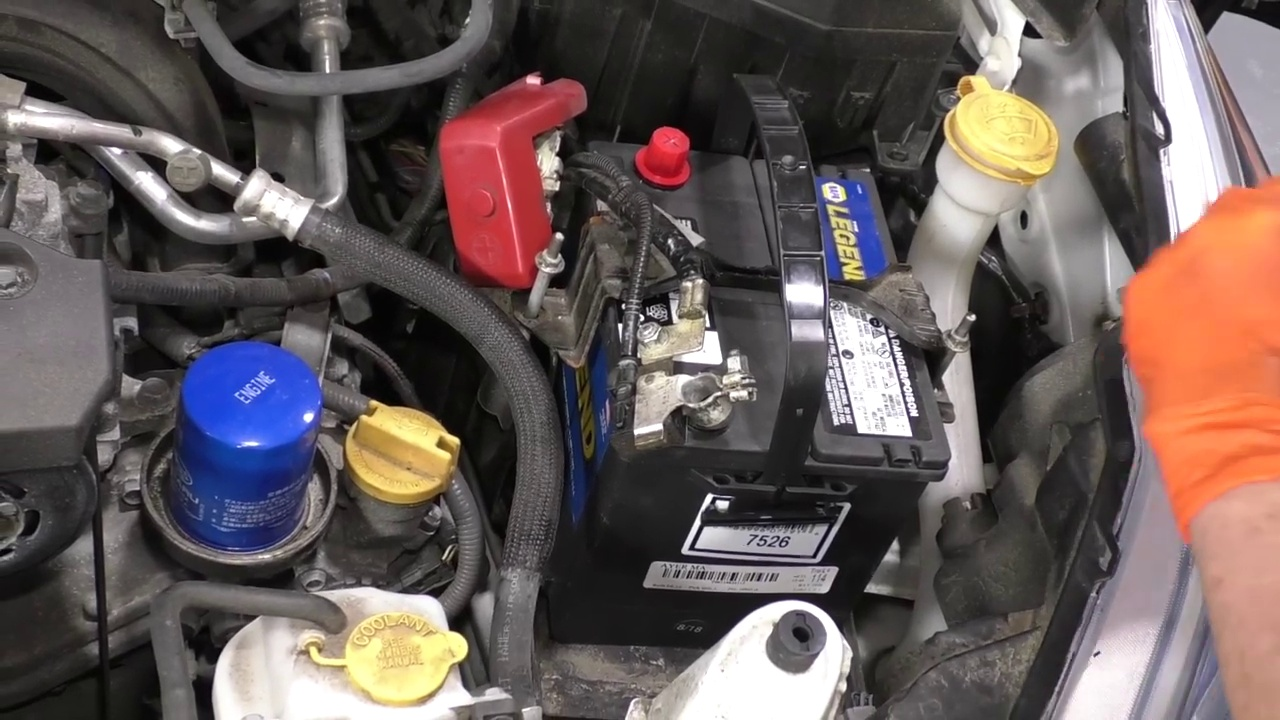battery: (585, 135, 933, 462)
pos_disconnected: (440, 106, 718, 233)
